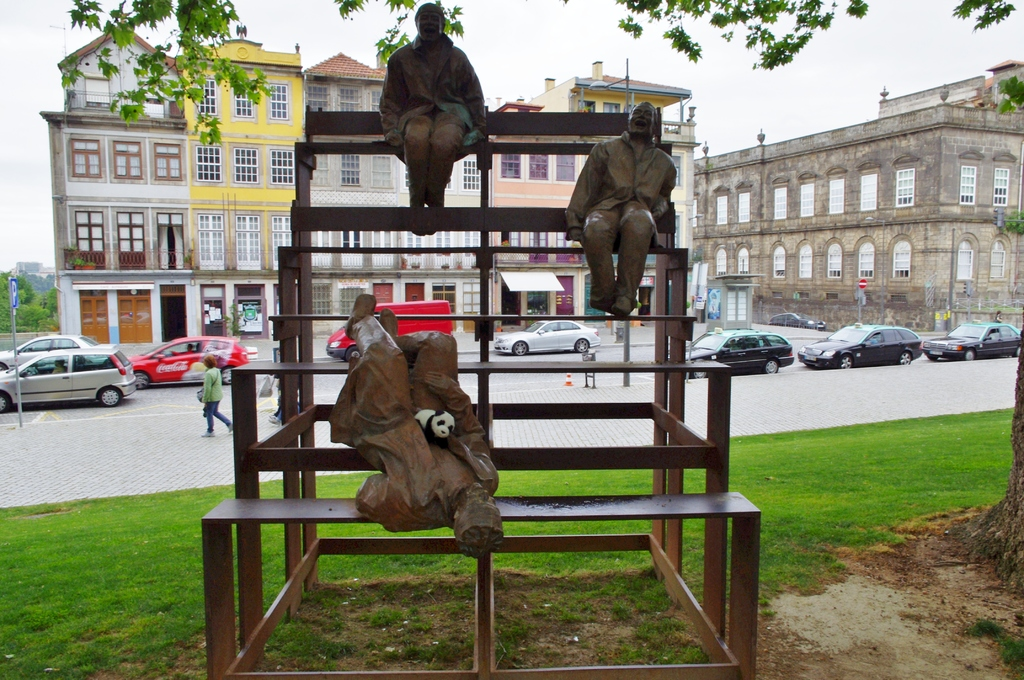Car: (0, 345, 133, 416), (133, 334, 252, 389), (798, 320, 926, 364), (680, 328, 792, 376), (926, 321, 1021, 367), (496, 317, 600, 357), (0, 333, 94, 366), (769, 306, 830, 333)
